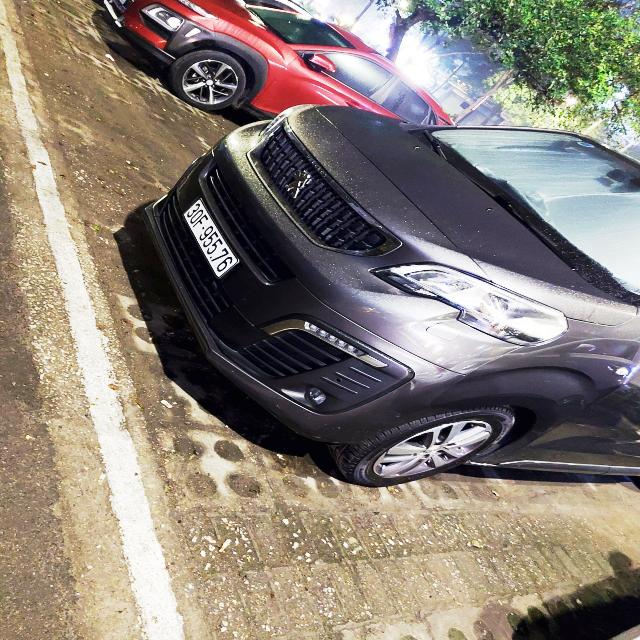license_plate: (182, 198, 242, 281)
